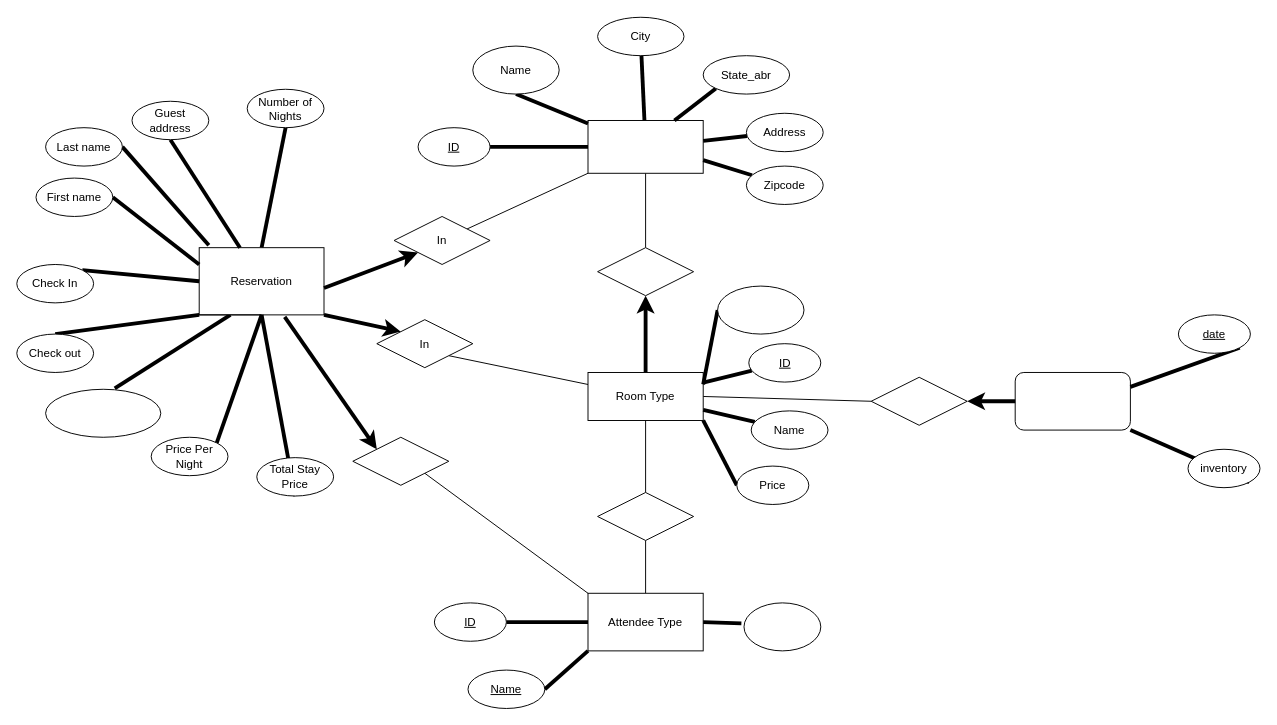
This 1277x725 diagram has some shape labels left out. Here are the shapes that lost their labels. From the top down, the centre of each, then its label:
At (x=645, y=146): "Hotel".
At (x=645, y=271): "Belongs to".
At (x=760, y=309): "max number of guests".
At (x=103, y=412): "Acknowledgement number".
At (x=918, y=400): "with".
At (x=1072, y=401): "Room_inventory".
At (x=400, y=460): "of".
At (x=645, y=516): "Attendee Rooms".
At (x=782, y=626): "Access Code".
